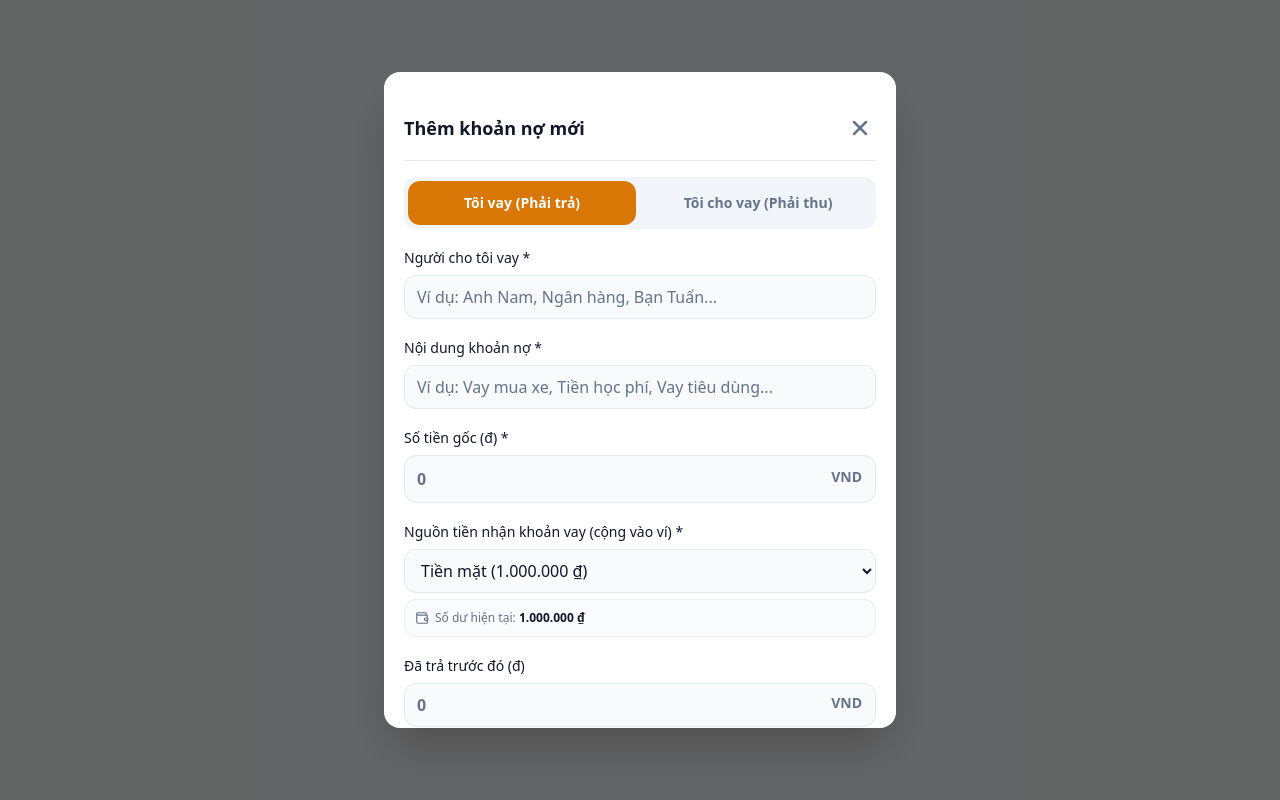
Test: DebtDialog Component Test › hiển thị nguồn tiền cộng vào ví khi Tôi vay và trừ khỏi ví khi Tôi cho vay
Later steps or results of the test are not shown.
Check: the dropdown labelled "Nguồn tiền nhận khoản vay (cộng vào ví) *" is shown, box [404, 549, 876, 593]
Click the button "Tôi cho vay (Phải thu)" at x=758, y=203, box [644, 181, 872, 225]
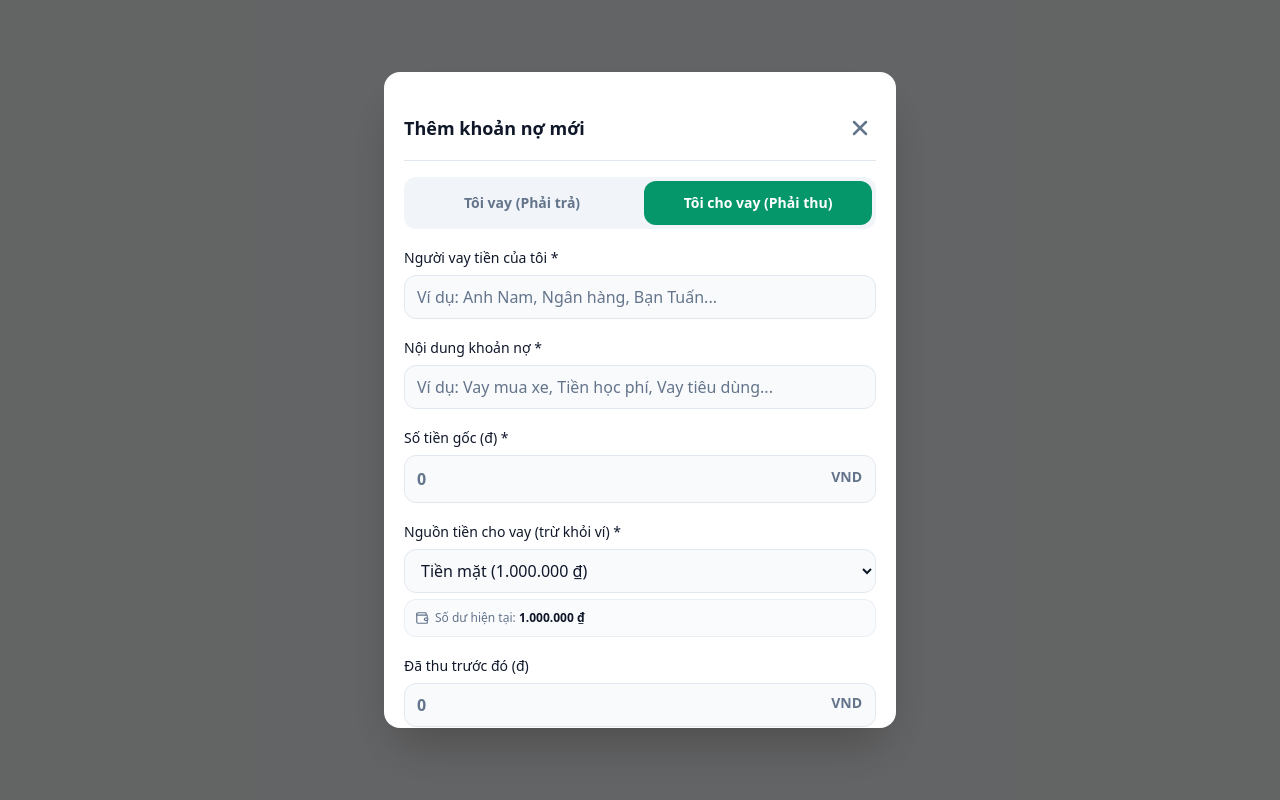
Check: the dropdown labelled "Nguồn tiền cho vay (trừ khỏi ví) *" is shown, box [404, 549, 876, 593]
Type "3000000" into the field labelled "Số tiền gốc (đ) *" at x=640, y=479, box [404, 455, 876, 503]
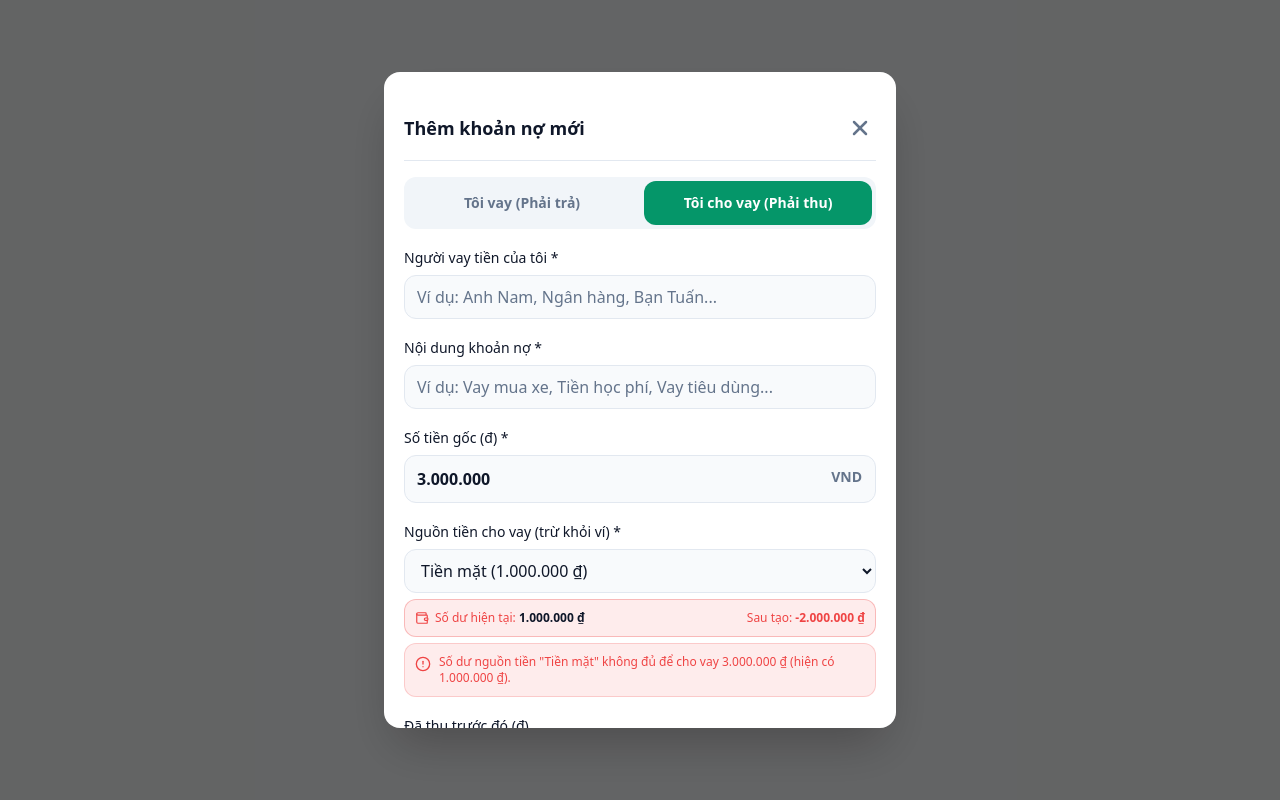
Check: the message shows "không đủ để cho vay", box [594, 653, 719, 670]
